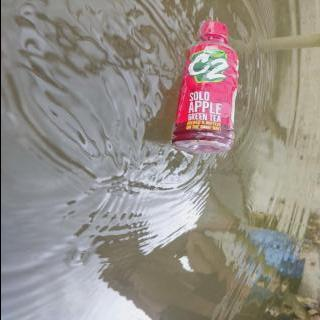bottle: (168, 16, 245, 156)
